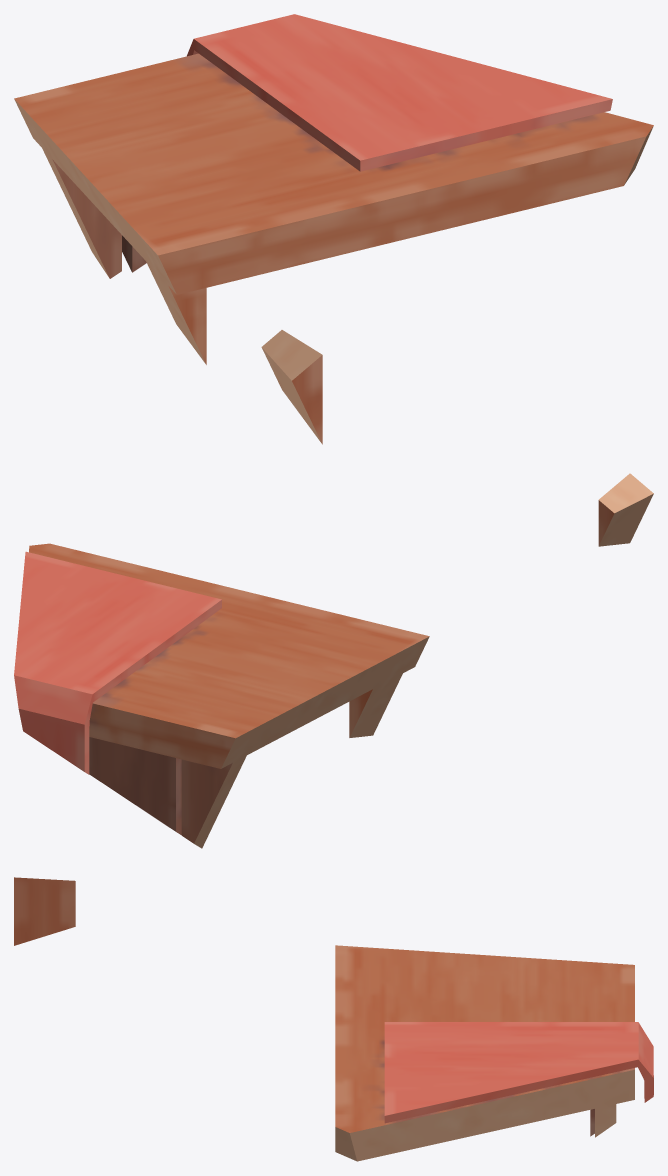
Rendered from stall_s08.fbx.
The picture shows the model from 3 angles, top to bottom: view 1: azimuth 30°, elevation 25°; view 2: azimuth 150°, elevation 25°; view 3: azimuth 270°, elevation 25°; orthographic projection. The views are drawn at different scales.
Parts seen in each view (by area): view 1: stall_s08; view 2: stall_s08; view 3: stall_s08.
Boxes of the visible parts, <box> form: stall_s08: <box>14,14,653,444</box>; stall_s08: <box>14,473,653,848</box>; stall_s08: <box>14,877,653,1161</box>.
Size of the model in its own units: 3.32 by 1.33 by 4.14.
